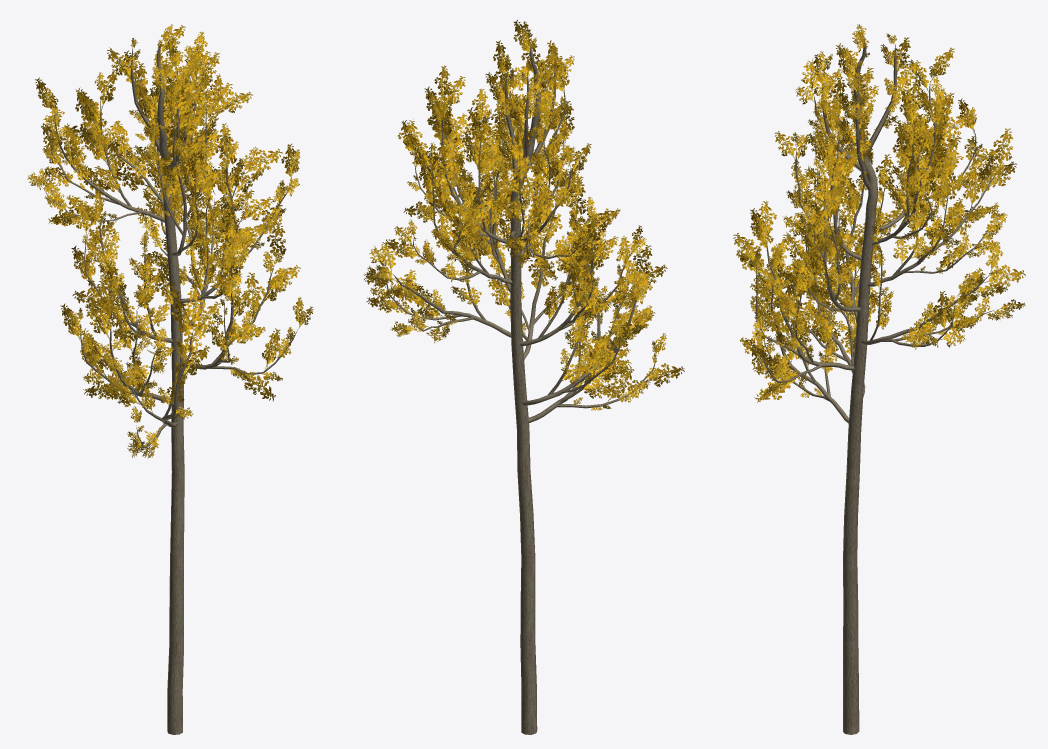
File: aspen_medium_02.glb
3 renders of one model, left to right at view 1: azimuth 30°, elevation 25°; view 2: azimuth 150°, elevation 25°; view 3: azimuth 270°, elevation 25°, orthographic.
Visible parts, largest first — view 1: Tree; view 2: Tree; view 3: Tree.
Boxes of the visible parts, x1,y1,x2,y2 form: Tree: (27, 24, 313, 734); Tree: (363, 20, 684, 734); Tree: (733, 24, 1025, 734).
Bounding box in the file's own units: 25.15 × 69.29 × 27.67.
2 materials, 2 textured.
